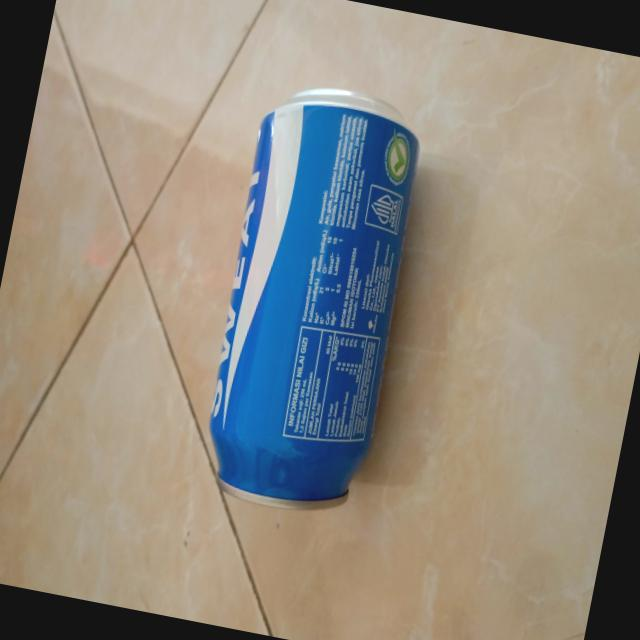pocari-sweat: (188, 69, 442, 526)
